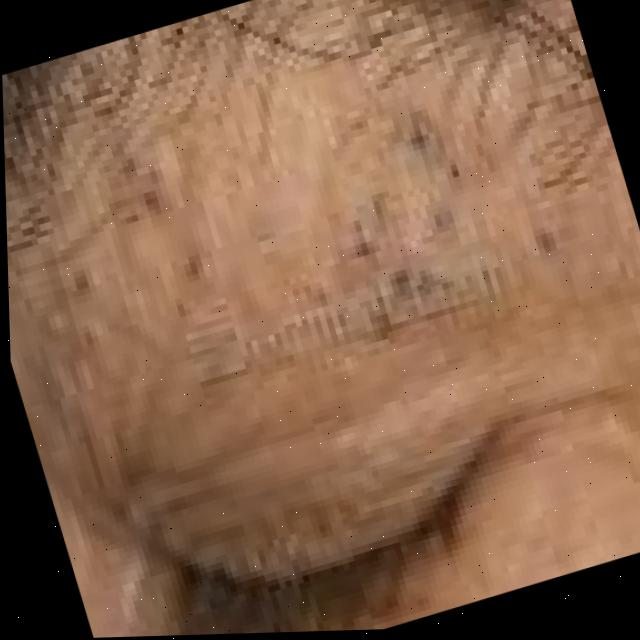Melasma: (287, 84, 571, 373)
